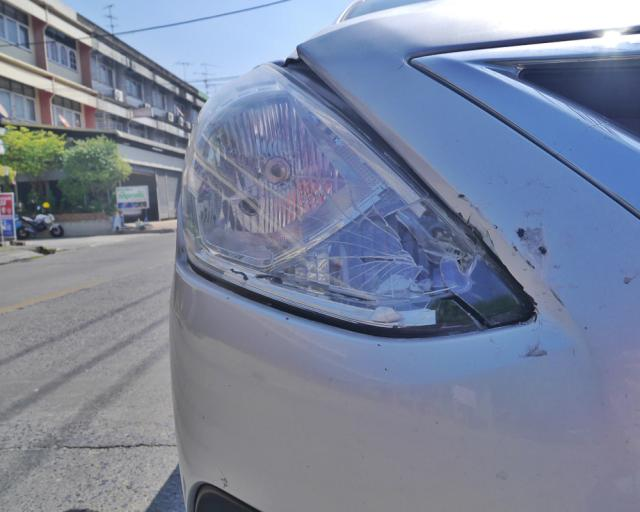lamp broken: (181, 66, 533, 336)
scratch: (456, 186, 636, 364)
